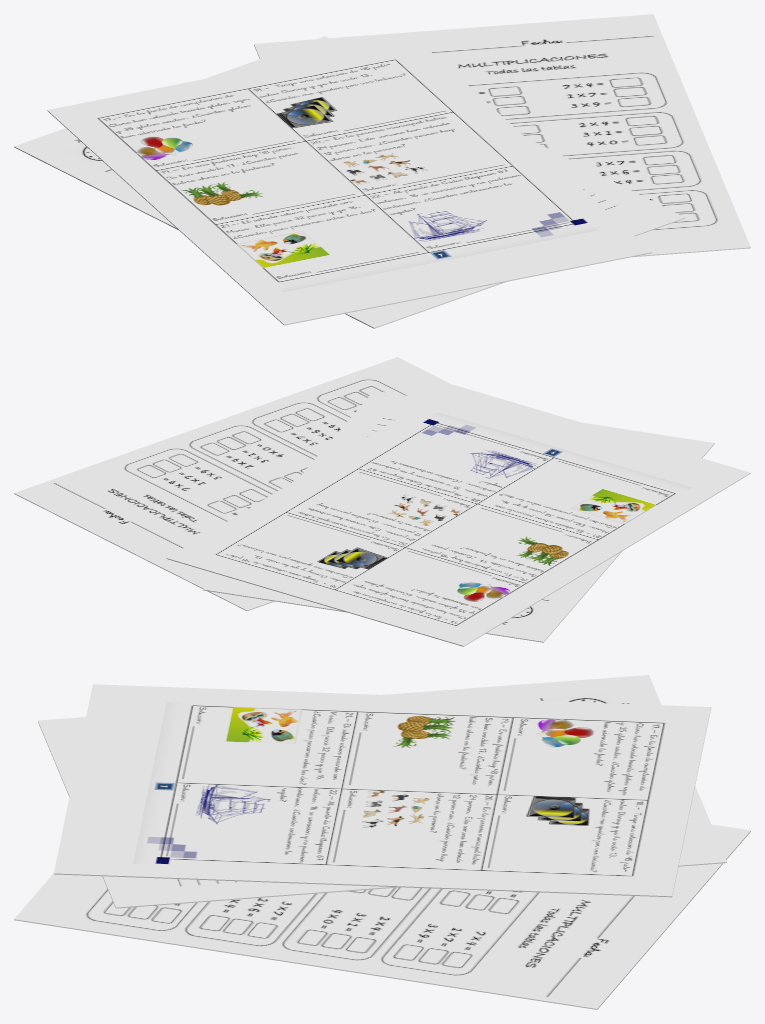
Rendered from Papers.FBX.
3 renders of one model, top to bottom at view 1: azimuth 30°, elevation 25°; view 2: azimuth 150°, elevation 25°; view 3: azimuth 270°, elevation 25°, orthographic. The views are drawn at different scales.
Visible parts, largest first — view 1: papers; view 2: papers; view 3: papers.
Boxes of the visible parts, box(x1,y1,x2,y2) form: papers: box(14, 14, 750, 328); papers: box(14, 357, 750, 646); papers: box(14, 675, 750, 1009).
Size of the model in its own units: 36.81 by 0.1561 by 34.43.
Materials: 1 (1 with a texture image).
